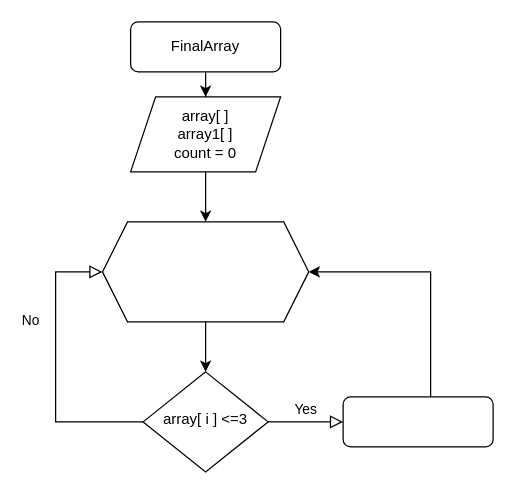
Image size: 515x494. Some labels were removed from this diagram. Each missing label, with the box of its shape:
array1[count]=array[i] count++: (342, 396, 493, 447)
int i= 0, i < array.lenght, i++: (101, 221, 309, 322)
